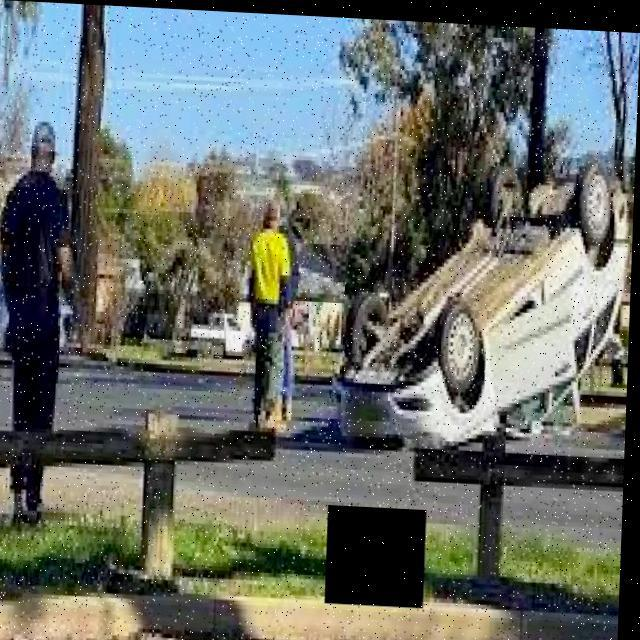single accident: (323, 130, 640, 473)
